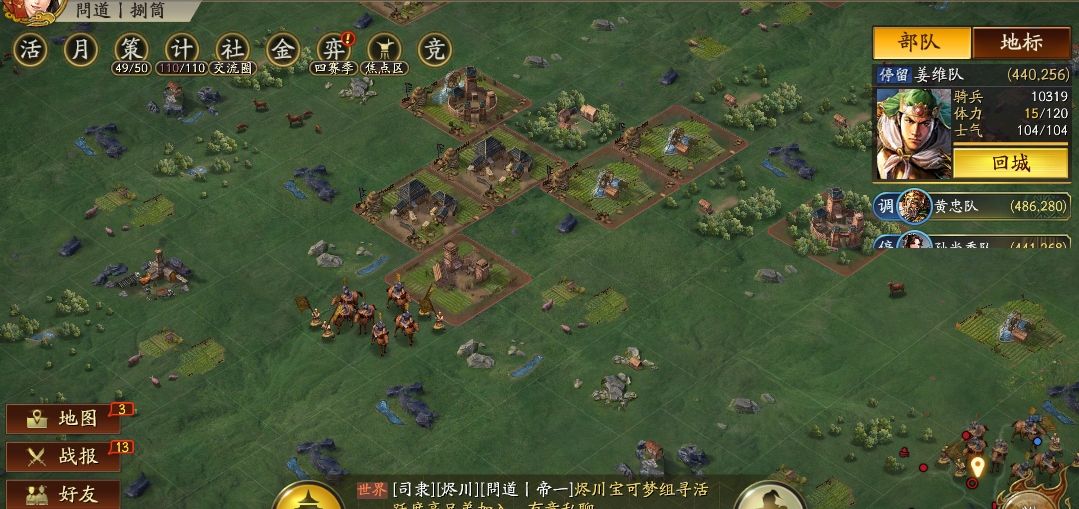sanzhan_plot_node: (538, 326, 705, 436), (93, 301, 249, 409), (502, 255, 655, 360), (66, 232, 225, 330), (766, 183, 915, 281), (932, 276, 1072, 377), (384, 234, 531, 329), (49, 165, 197, 259), (347, 166, 499, 254), (679, 58, 824, 149), (537, 145, 683, 232), (118, 61, 258, 150), (502, 87, 640, 176), (613, 104, 751, 191), (435, 125, 567, 207), (399, 63, 533, 142)
